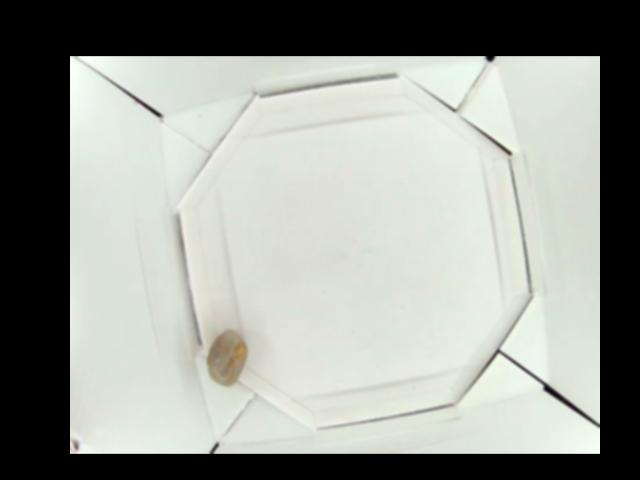Pebble: (206, 328, 247, 385)
